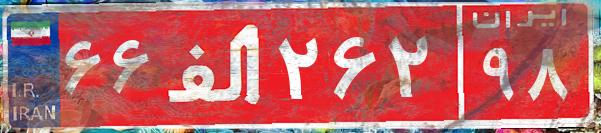2: (385, 28, 445, 110), (273, 28, 330, 110)
6: (330, 28, 385, 110), (57, 26, 110, 107), (110, 28, 158, 105)
8: (525, 38, 570, 115)
9: (475, 38, 525, 113)
الف: (158, 15, 273, 115)
